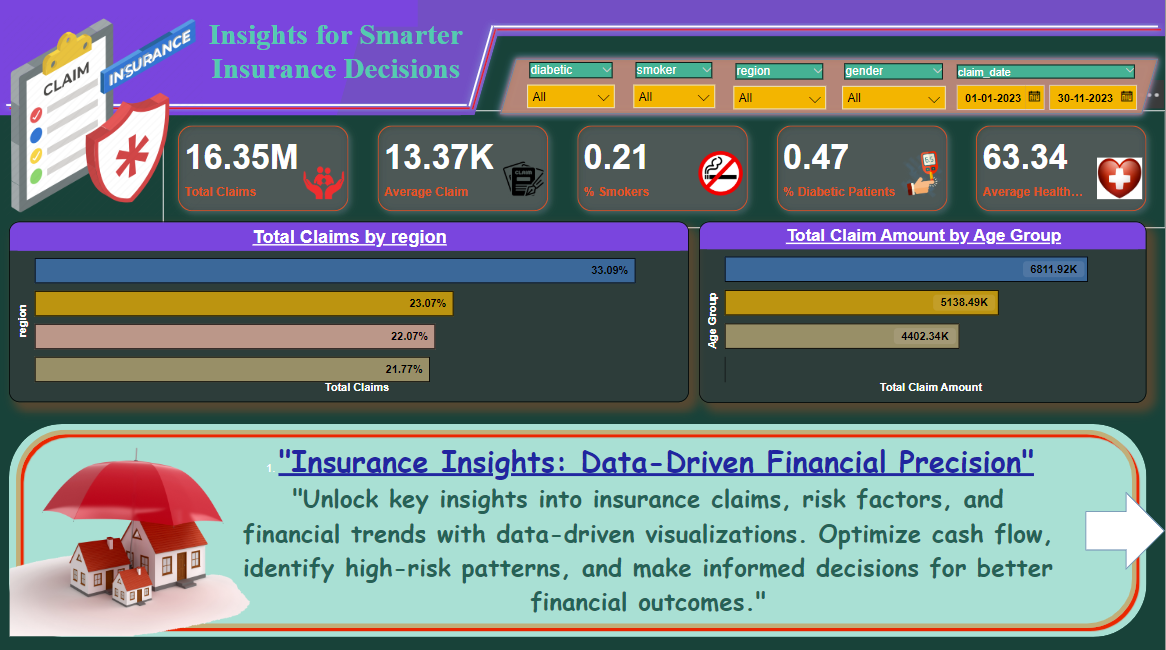

The page's visual inventory and layout, read from the dashboard file:
{"tool":"powerbi","page":{"name":"Page 1","canvas":[1280,720],"ordinal":1},"visuals":[{"type":"cardVisual","fields":{"Data":["insurance_data.Total Claims","insurance_data.Average Claim","gender_smoker_health_summary.% Smokers","insurance_data.% Diabetic Patients","insurance_data.Average Health Risk"]},"box":[179.5,122.1,1100.5,129],"z":0},{"type":"clusteredBarChart","fields":{"Y":["insurance_data.Total Claims"],"Category":["insurance_data.region"]},"box":[11.2,243.8,746.2,198.8],"z":1000},{"type":"clusteredBarChart","fields":{"Category":["insurance_data.Age_Group"],"Y":["insurance_data.Total Claim Amount"]},"box":[768.4,244.3,491.3,199],"z":2000},{"type":"shape","box":[542,57.6,738.3,76.8],"z":3000},{"type":"shape","box":[0,0,506.3,127.6],"z":4000},{"type":"shape","box":[459.7,0,820.6,41.2],"z":5000},{"type":"shape","box":[370.5,30.2,179.8,97.4],"z":6000},{"type":"shape","box":[0,108.4,521.4,15.1],"z":7000},{"type":"shape","box":[505,20.6,48,105.7],"z":8000},{"type":"shape","box":[534.9,20.6,745.1,19.2],"z":9000},{"type":"image","box":[0,0,228.8,256.2],"z":10000},{"type":"textbox","box":[179.8,15.1,380.1,93.3],"z":11000},{"type":"shape","box":[11.2,466.2,1248.8,233.8],"z":12000},{"type":"textbox","box":[260,478.8,906.2,206.2],"z":13000},{"type":"shape","box":[13.8,467.5,1240,227.5],"z":14000},{"type":"image","box":[6.2,475,300,231.2],"z":15000},{"type":"shape","box":[1192.5,540,87.5,86.2],"z":16000},{"type":"actionButton","box":[1208.8,547.5,67.5,72.5],"z":17000},{"type":"slicer","fields":{"Values":["insurance_data.diabetic"]},"box":[569.5,64.5,116.6,60.4],"z":18000},{"type":"slicer","fields":{"Values":["gender_smoker_health_summary.smoker"]},"box":[686.1,64.5,109.8,61.7],"z":19000},{"type":"slicer","fields":{"Values":["insurance_data.region"]},"box":[795.9,65.9,122.1,61.7],"z":20000},{"type":"slicer","fields":{"Values":["insurance_data.claim_date"]},"box":[1038.8,67.2,220.9,64.5],"z":21000},{"type":"slicer","fields":{"Values":["insurance_data.gender"]},"box":[915,66.2,133.8,61.2],"z":22000}]}

Visuals, with their boxes in screenshot pixels (x1, y1, x2, y2), scaled from the page's 1280x720 canvas onto the 1166x650 screenshot:
cardVisual - insurance_data.Total Claims x insurance_data.Average Claim: (left=164, top=110, right=1165, bottom=227)
clusteredBarChart - insurance_data.Total Claims x insurance_data.region: (left=10, top=220, right=690, bottom=400)
clusteredBarChart - insurance_data.Age_Group x insurance_data.Total Claim Amount: (left=700, top=221, right=1148, bottom=400)
shape: (left=494, top=52, right=1165, bottom=121)
shape: (left=0, top=0, right=461, bottom=115)
shape: (left=419, top=0, right=1165, bottom=37)
shape: (left=338, top=27, right=501, bottom=115)
shape: (left=0, top=98, right=475, bottom=111)
shape: (left=460, top=19, right=504, bottom=114)
shape: (left=487, top=19, right=1165, bottom=36)
image: (left=0, top=0, right=208, bottom=231)
textbox: (left=164, top=14, right=510, bottom=98)
shape: (left=10, top=421, right=1148, bottom=632)
textbox: (left=237, top=432, right=1062, bottom=618)
shape: (left=13, top=422, right=1142, bottom=627)
image: (left=6, top=429, right=279, bottom=638)
shape: (left=1086, top=488, right=1165, bottom=565)
actionButton: (left=1101, top=494, right=1163, bottom=560)
slicer - insurance_data.diabetic: (left=519, top=58, right=625, bottom=113)
slicer - gender_smoker_health_summary.smoker: (left=625, top=58, right=725, bottom=114)
slicer - insurance_data.region: (left=725, top=59, right=836, bottom=115)
slicer - insurance_data.claim_date: (left=946, top=61, right=1148, bottom=119)
slicer - insurance_data.gender: (left=834, top=60, right=955, bottom=115)
